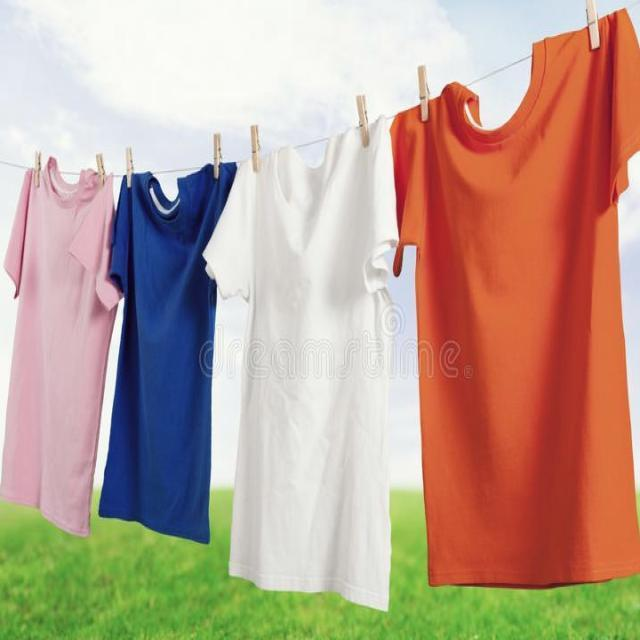clothes: (402, 0, 640, 623), (234, 103, 392, 603), (98, 142, 241, 538), (4, 164, 126, 546)
